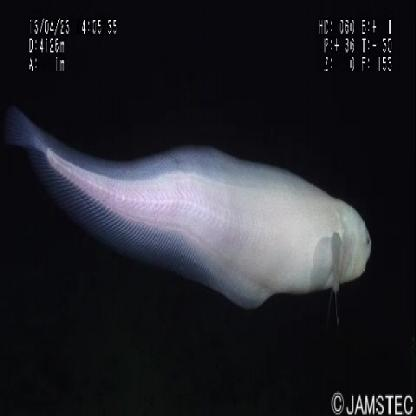Bio: (6, 103, 374, 316)
